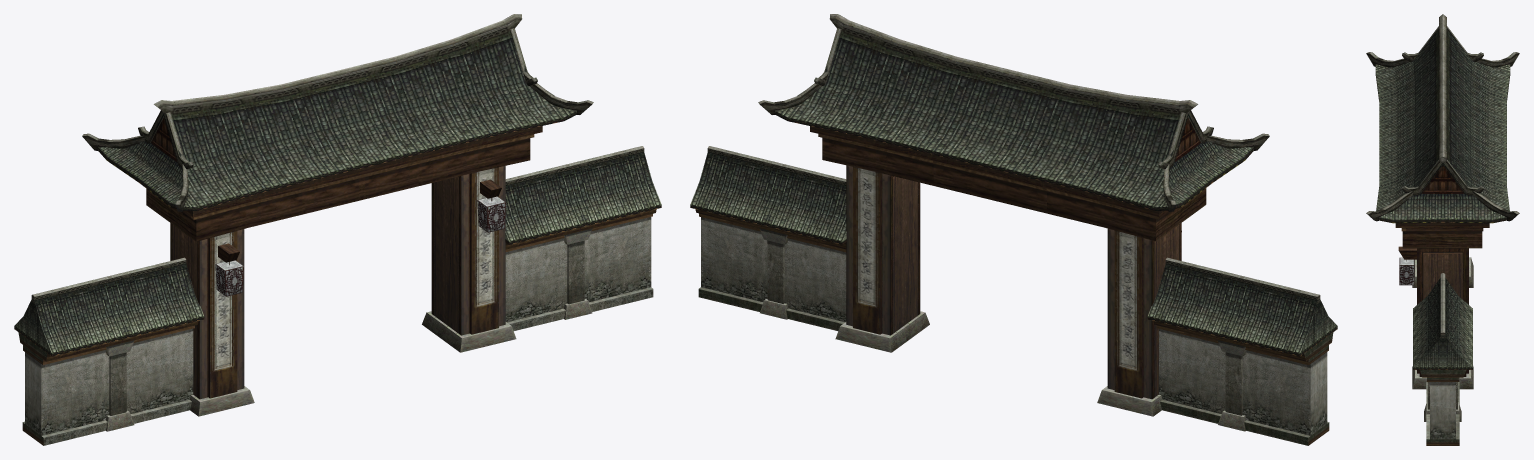
The model's file is c1-038-wall-door.fbx.
The picture shows the model from 3 angles, left to right: view 1: azimuth 30°, elevation 25°; view 2: azimuth 150°, elevation 25°; view 3: azimuth 270°, elevation 25°; orthographic projection. The views are drawn at different scales.
Parts seen in each view (by area): view 1: Object05; view 2: Object05; view 3: Object05.
Part boxes in pixels (x1=…): Object05: x1=14, y1=14, x2=661, y2=445; Object05: x1=690, y1=14, x2=1337, y2=445; Object05: x1=1366, y1=14, x2=1519, y2=445.
Size of the model in its own units: 20 by 9.62 by 5.49.
